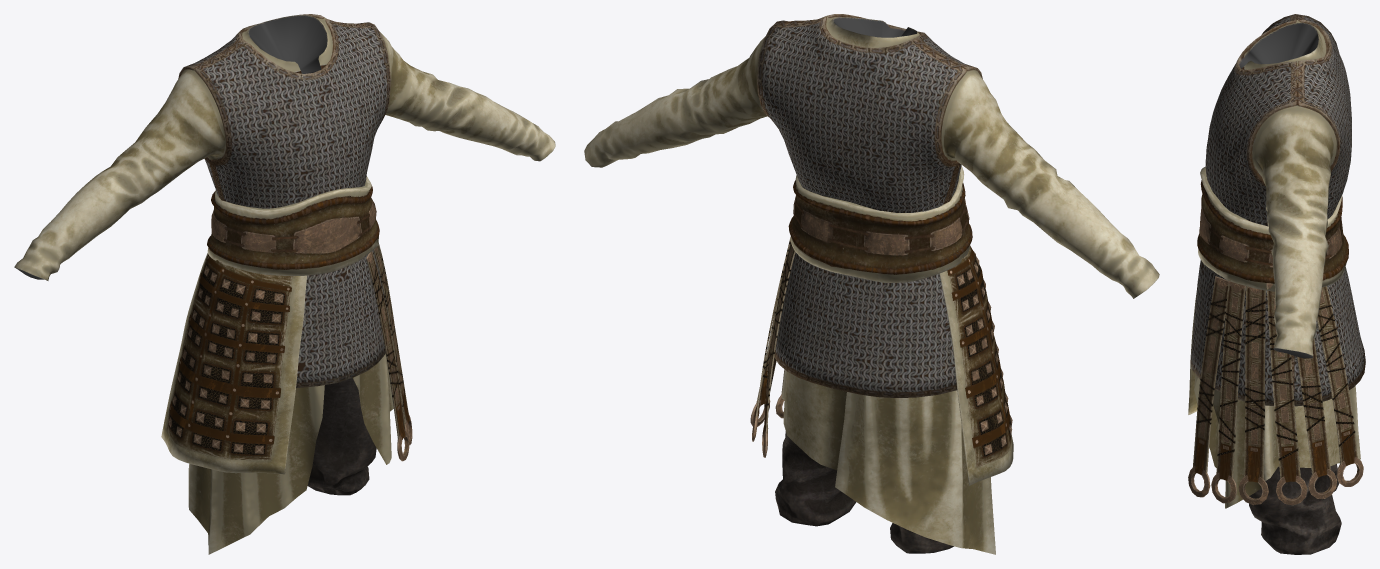
Rendered from dunland_caerdh_chainmail_heavy_e.fbx.
The picture shows the model from 3 angles, left to right: view 1: azimuth 30°, elevation 25°; view 2: azimuth 150°, elevation 25°; view 3: azimuth 270°, elevation 25°; orthographic projection. The views are drawn at different scales.
Parts seen in each view (by area): view 1: dunland_caerdh_chainmail_heavy_e, dunland_caerdh_chainmail_heavy_e.beltbskirt, dunland_caerdh_chainmail_heavy_e.belta, dunland_caerdh_chainmail_heavy_e.skirt, dunland_caerdh_chainmail_heavy_e.straps; view 2: dunland_caerdh_chainmail_heavy_e, dunland_caerdh_chainmail_heavy_e.skirt, dunland_caerdh_chainmail_heavy_e.belta, dunland_caerdh_chainmail_heavy_e.beltbskirt, dunland_caerdh_chainmail_heavy_e.straps; view 3: dunland_caerdh_chainmail_heavy_e, dunland_caerdh_chainmail_heavy_e.straps, dunland_caerdh_chainmail_heavy_e.belta, dunland_caerdh_chainmail_heavy_e.skirt, dunland_caerdh_chainmail_heavy_e.beltbskirt.
Boxes of the visible parts, <box> form: dunland_caerdh_chainmail_heavy_e: <box>14,14,555,495</box>; dunland_caerdh_chainmail_heavy_e.beltbskirt: <box>161,253,306,474</box>; dunland_caerdh_chainmail_heavy_e.belta: <box>207,176,379,275</box>; dunland_caerdh_chainmail_heavy_e.skirt: <box>188,353,393,554</box>; dunland_caerdh_chainmail_heavy_e.straps: <box>366,245,412,461</box>; dunland_caerdh_chainmail_heavy_e: <box>584,14,1159,553</box>; dunland_caerdh_chainmail_heavy_e.skirt: <box>781,370,995,554</box>; dunland_caerdh_chainmail_heavy_e.belta: <box>788,166,972,282</box>; dunland_caerdh_chainmail_heavy_e.beltbskirt: <box>939,246,1013,485</box>; dunland_caerdh_chainmail_heavy_e.straps: <box>750,237,795,457</box>; dunland_caerdh_chainmail_heavy_e: <box>1190,14,1365,554</box>; dunland_caerdh_chainmail_heavy_e.straps: <box>1188,276,1363,505</box>; dunland_caerdh_chainmail_heavy_e.belta: <box>1197,166,1348,291</box>; dunland_caerdh_chainmail_heavy_e.skirt: <box>1194,375,1360,508</box>; dunland_caerdh_chainmail_heavy_e.beltbskirt: <box>1188,290,1197,414</box>.
Bounding box in the file's own units: 1.38 × 0.3917 × 1.21.
Materials: 5 (5 with a texture image).
